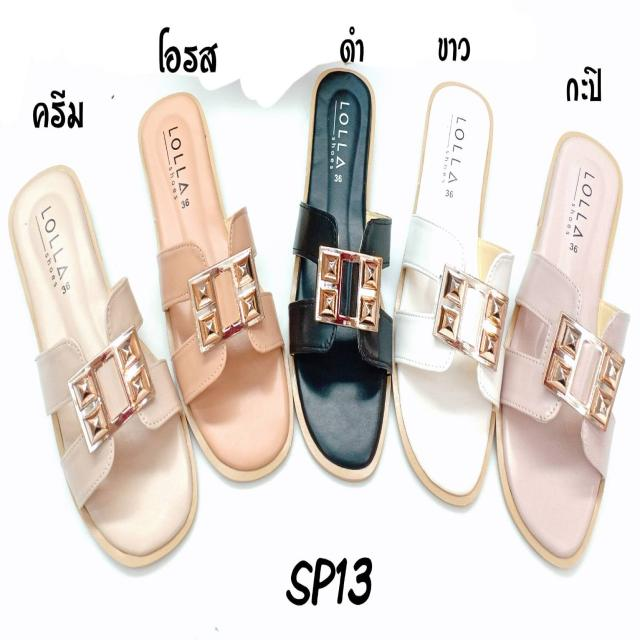black: (293, 70, 389, 472)
cream: (9, 168, 190, 564)
kapi: (497, 134, 620, 562)
orot: (141, 97, 290, 476)
white: (393, 84, 495, 505)
